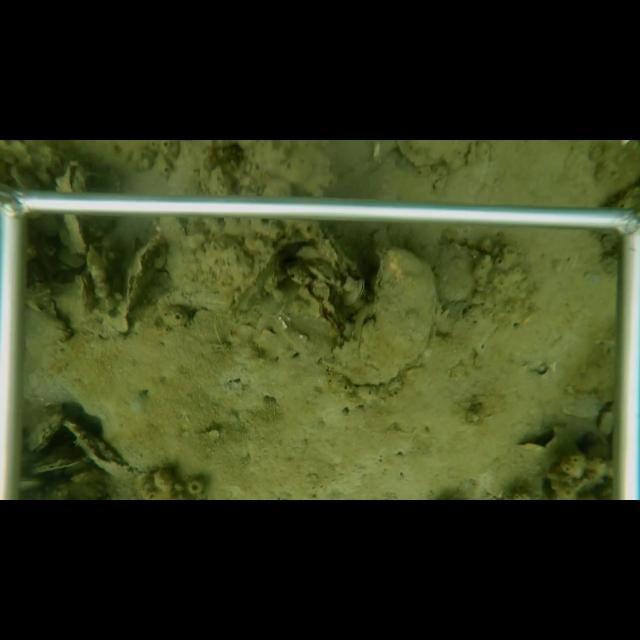Oyster-Closed: (358, 245, 438, 383), (122, 233, 168, 315), (435, 244, 479, 304), (84, 246, 114, 314), (25, 408, 65, 454), (32, 457, 86, 479), (344, 276, 364, 306)
Oyster-Open: (64, 418, 124, 474), (56, 160, 88, 256)
